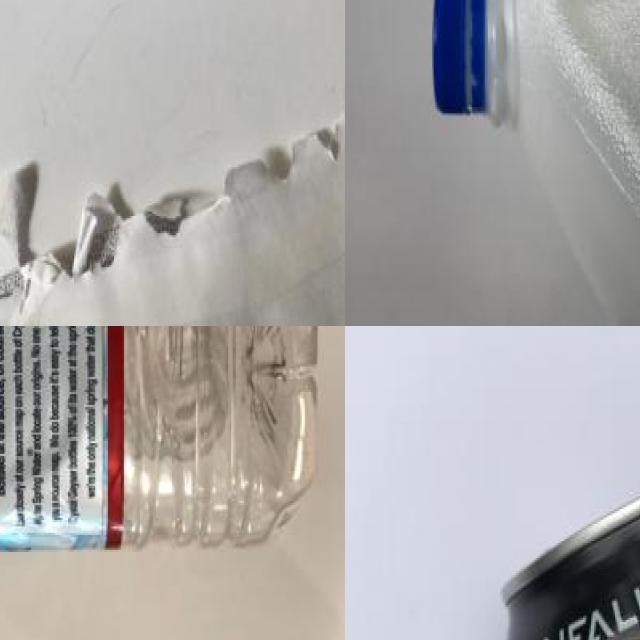paper: (0, 114, 345, 326)
plastic: (0, 326, 332, 560), (420, 0, 640, 326), (484, 450, 640, 640)
